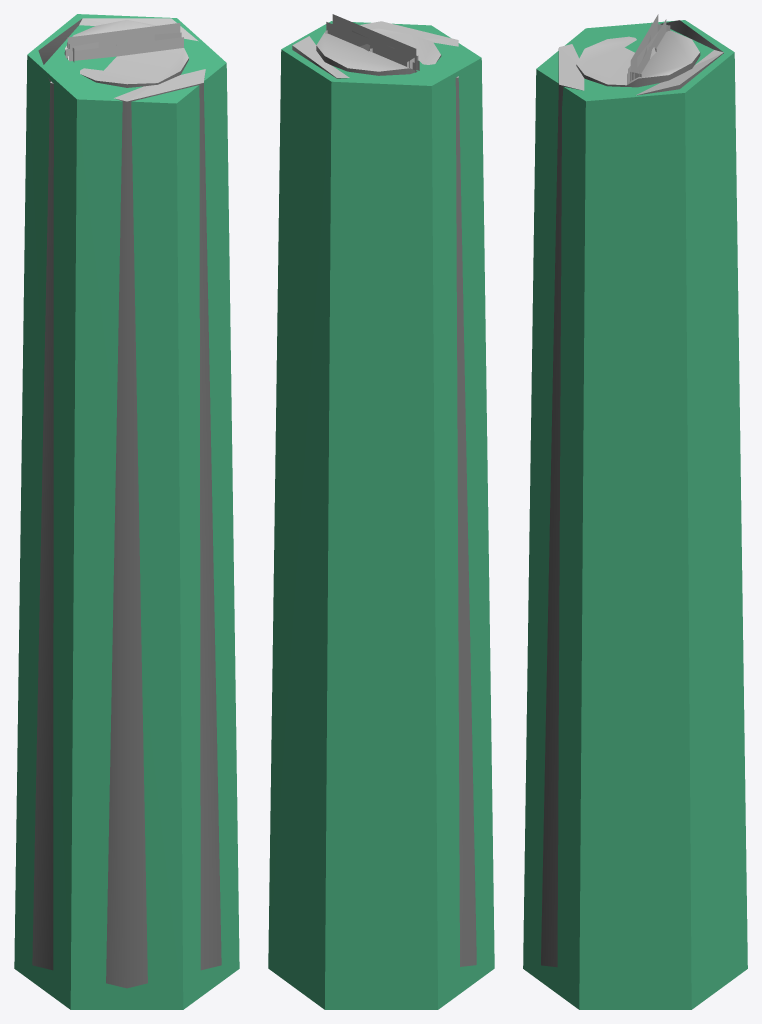
File: tree_aspen_chopped.dae
3 renders of one model, left to right at view 1: azimuth 30°, elevation 25°; view 2: azimuth 150°, elevation 25°; view 3: azimuth 270°, elevation 25°, orthographic.
Parts seen in each view (by area): view 1: Colmesh-1, tree_oak_bush_a100, tree_oak_bush_a180; view 2: Colmesh-1, tree_oak_bush_a100, tree_oak_bush_a180; view 3: Colmesh-1, tree_oak_bush_a100, tree_oak_bush_a180.
Boxes of the visible parts, x1,y1,x2,y2 form: Colmesh-1: (14,14,239,1009); tree_oak_bush_a100: (32,18,221,988); tree_oak_bush_a180: (64,20,188,87); Colmesh-1: (268,21,494,1009); tree_oak_bush_a100: (292,21,476,966); tree_oak_bush_a180: (316,14,441,75); Colmesh-1: (523,20,747,1009); tree_oak_bush_a100: (541,20,723,967); tree_oak_bush_a180: (576,14,700,87).
Size of the model in its own units: 0.4078 by 0.4441 by 2.03.
